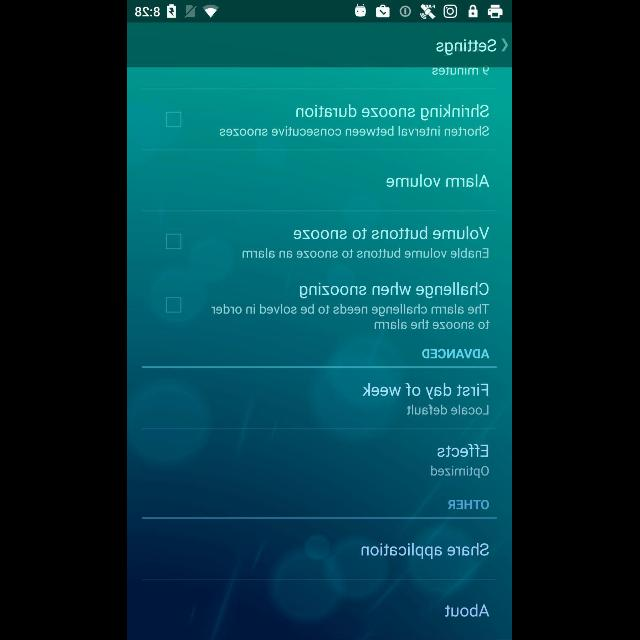checkbox: (166, 112, 182, 128), (166, 234, 182, 250), (166, 297, 182, 313)
icon: (502, 38, 508, 52)
text: (212, 303, 490, 329), (300, 282, 490, 300), (296, 105, 489, 122), (294, 226, 490, 240), (220, 126, 490, 136), (243, 248, 489, 258), (362, 542, 490, 560), (363, 382, 489, 400), (386, 174, 489, 188), (407, 404, 489, 416), (437, 39, 498, 55), (438, 444, 488, 458), (423, 349, 491, 359), (432, 466, 490, 476), (446, 604, 490, 616), (432, 68, 490, 76), (448, 499, 489, 509)
toolbar: (128, 22, 512, 68)
uppertaskbar: (128, 1, 512, 23)
